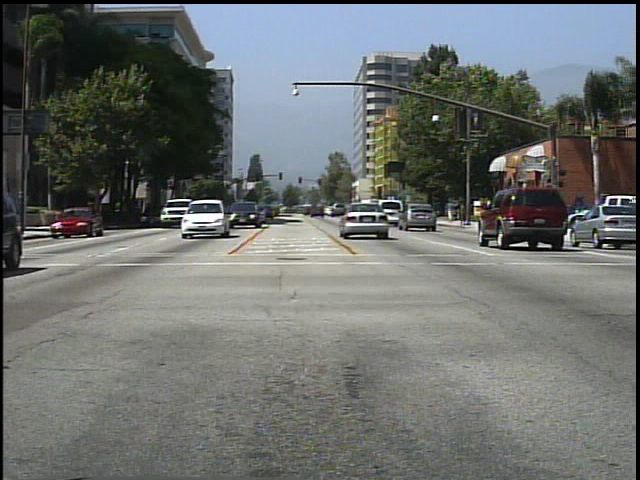person: (483, 195, 502, 229), (445, 195, 459, 225)
